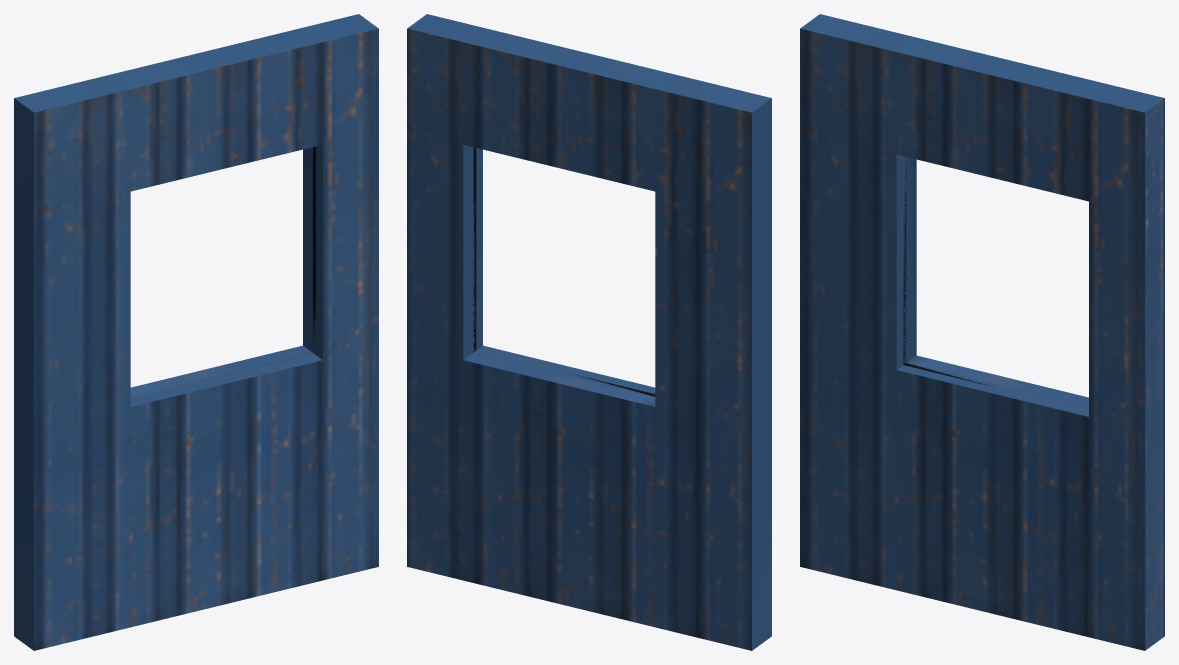
File: camlı dış duvar.fbx
3 views of the same model, side by side, from view 1: azimuth 30°, elevation 25°; view 2: azimuth 150°, elevation 25°; view 3: azimuth 330°, elevation 25° (orthographic).
Parts seen in each view (by area): view 1: Plane.006; view 2: Plane.006; view 3: Plane.006.
Part boxes in pixels (bbox=[...]): Plane.006: bbox=[14, 14, 378, 650]; Plane.006: bbox=[407, 14, 771, 650]; Plane.006: bbox=[800, 14, 1164, 650].
Size of the model in its own units: 200 by 298 by 20.
1 material, 1 textured.
